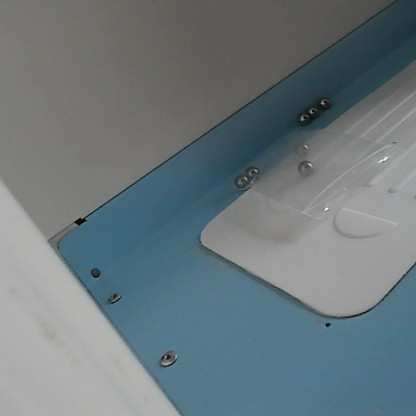ironball: (244, 163, 262, 185), (230, 173, 247, 192), (291, 140, 308, 157), (317, 96, 333, 111), (297, 161, 314, 175), (304, 103, 318, 117), (296, 110, 309, 123)
